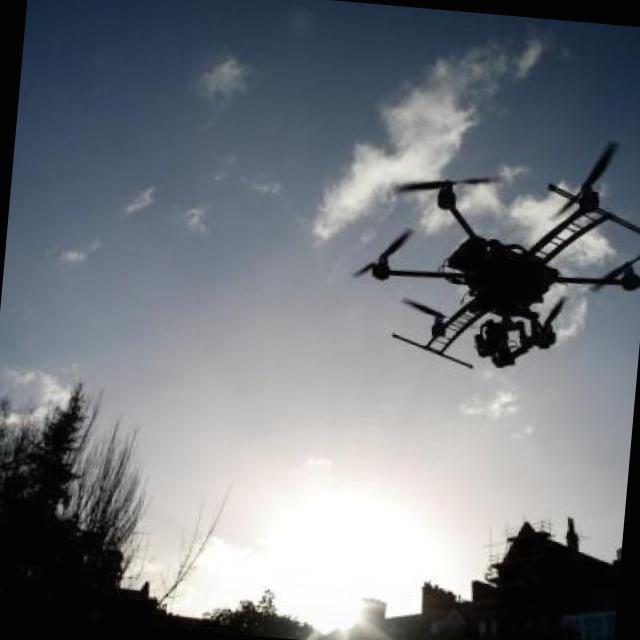drone: (341, 154, 640, 386)
